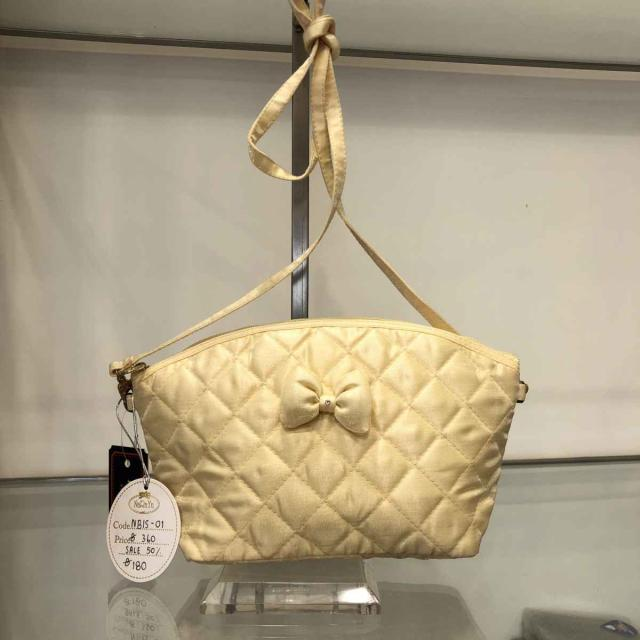Handbag: (114, 322, 530, 570)
